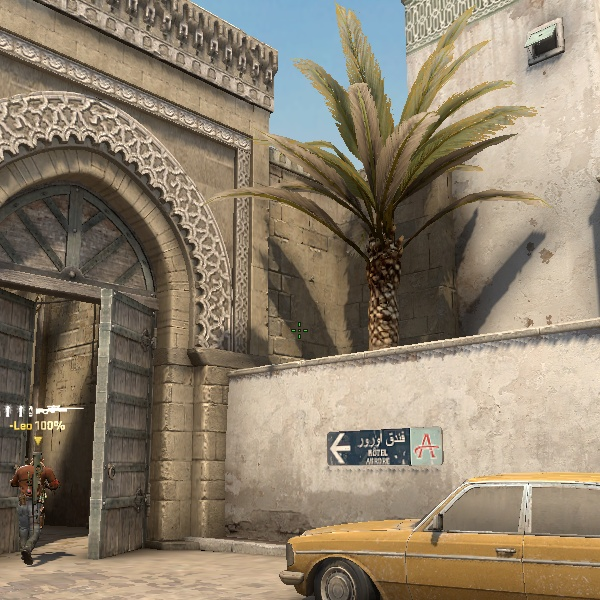t_body: (4, 447, 66, 569)
